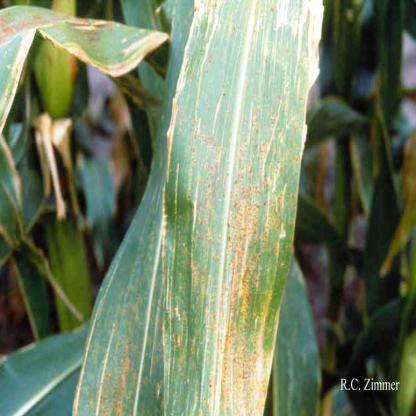corn rust leaf: (154, 2, 325, 415), (1, 1, 175, 139)
